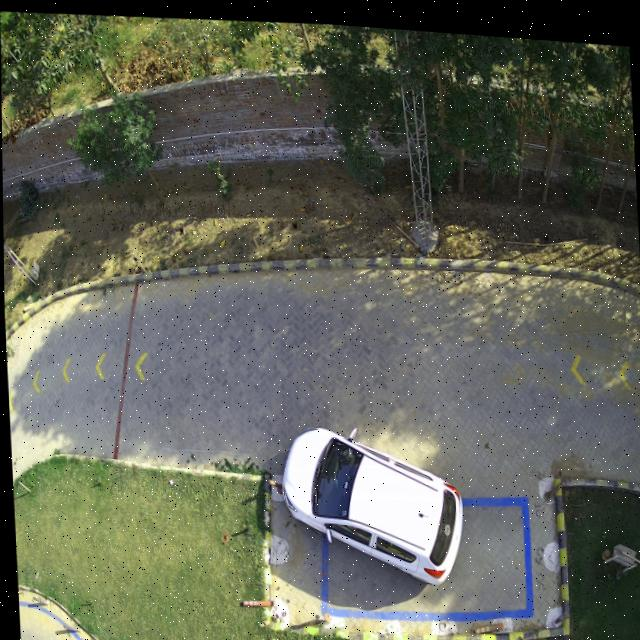car: (281, 423, 459, 577)
